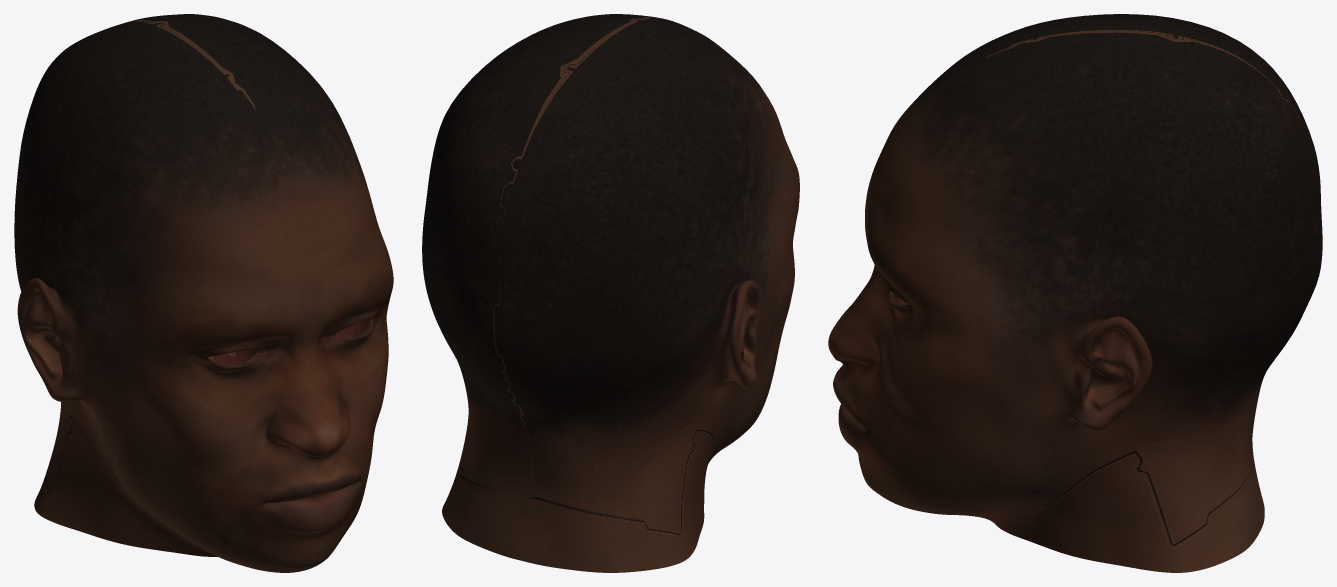
File: human-portrait.glb
3 views of the same model, side by side, from view 1: azimuth 30°, elevation 25°; view 2: azimuth 150°, elevation 25°; view 3: azimuth 270°, elevation 25° (orthographic). The views are drawn at different scales.
Visible parts, largest first — view 1: CC0 authored human portrait with preserved skin UVs; view 2: CC0 authored human portrait with preserved skin UVs; view 3: CC0 authored human portrait with preserved skin UVs.
Part boxes in pixels (<box>): CC0 authored human portrait with preserved skin UVs: <box>14,14,393,572</box>; CC0 authored human portrait with preserved skin UVs: <box>422,14,799,572</box>; CC0 authored human portrait with preserved skin UVs: <box>828,14,1322,572</box>.
Bounding box in the file's own units: 3.79 × 5.4 × 5.04.
Materials: 1 (1 with a texture image).
